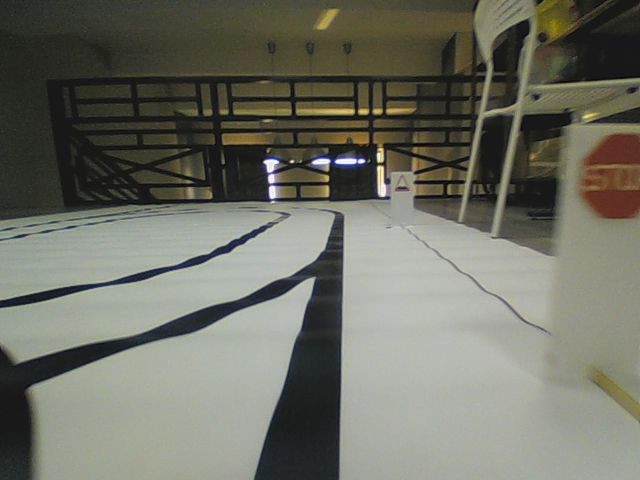Stop: (579, 132, 640, 222)
